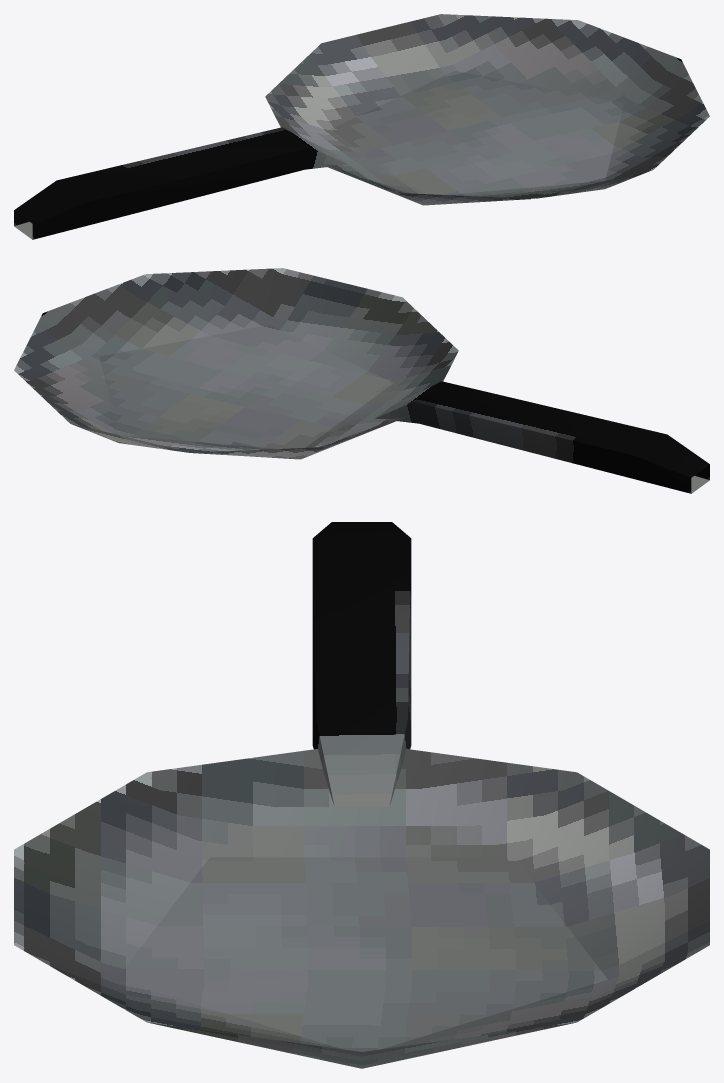
The model's file is eqp_cook_frying_pan_l2.fbx.
3 renders of one model, top to bottom at view 1: azimuth 30°, elevation 25°; view 2: azimuth 150°, elevation 25°; view 3: azimuth 270°, elevation 25°, orthographic. The views are drawn at different scales.
Visible parts, largest first — view 1: mesh_node; view 2: mesh_node; view 3: mesh_node.
Boxes of the visible parts, x1,y1,x2,y2 form: mesh_node: (14, 14, 709, 239); mesh_node: (14, 268, 709, 493); mesh_node: (14, 522, 709, 1068).
Size of the model in its own units: 0.4458 by 0.0353 by 0.2496.
